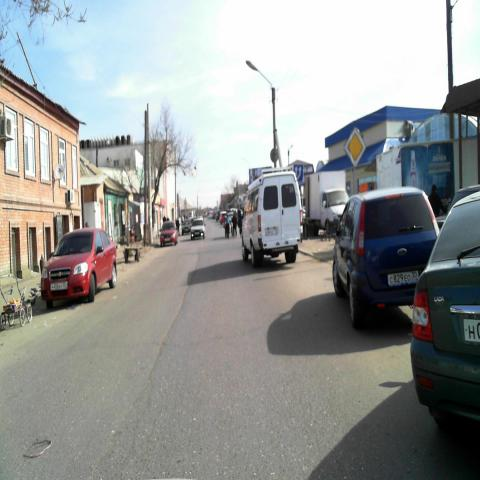2_1: (344, 127, 366, 169)
5_15_3: (293, 164, 303, 180)
